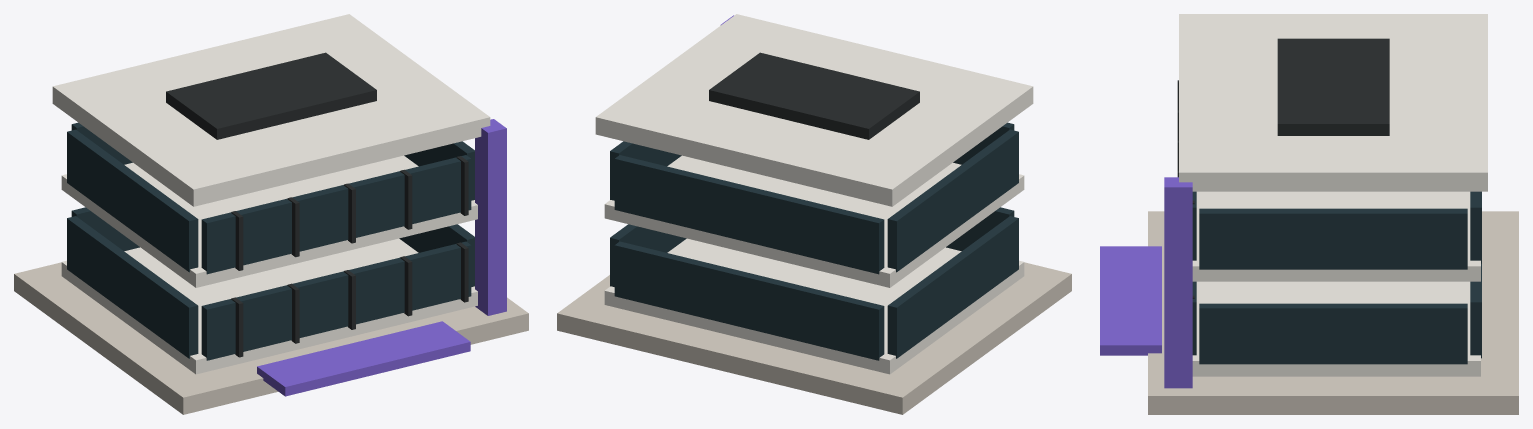
Rendered from predio-servicos.glb.
3 renders of one model, left to right at view 1: azimuth 30°, elevation 25°; view 2: azimuth 150°, elevation 25°; view 3: azimuth 270°, elevation 25°, orthographic. The views are drawn at different scales.
Visible parts, largest first — view 1: Predio servicos; view 2: Predio servicos; view 3: Predio servicos.
Part boxes in pixels (box(x1,y1,x2,y2)): Predio servicos: box(14, 14, 528, 414); Predio servicos: box(557, 14, 1071, 414); Predio servicos: box(1100, 14, 1518, 414).
Size of the model in its own units: 4.6 by 2.8 by 4.41.
